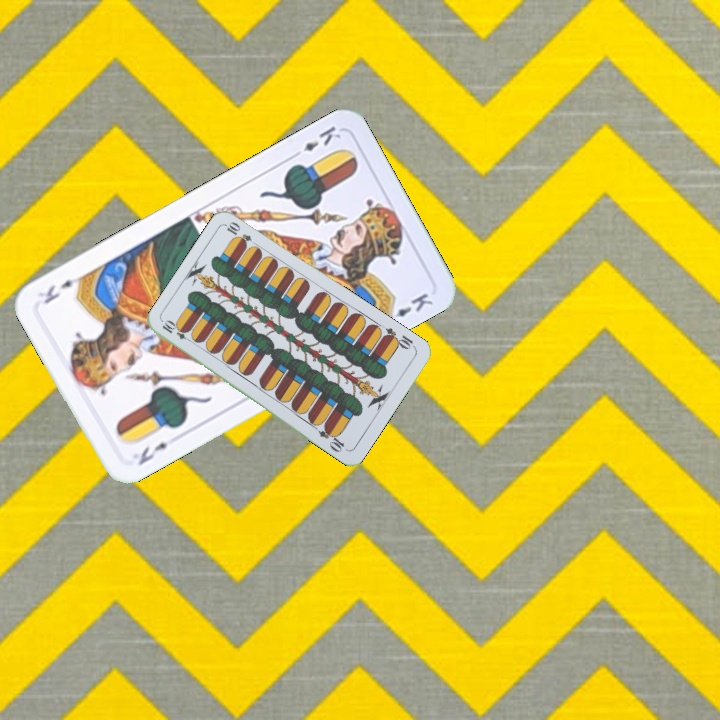E10: (379, 324, 418, 352), (158, 317, 196, 345)
EK: (287, 121, 344, 161), (134, 438, 171, 468)
